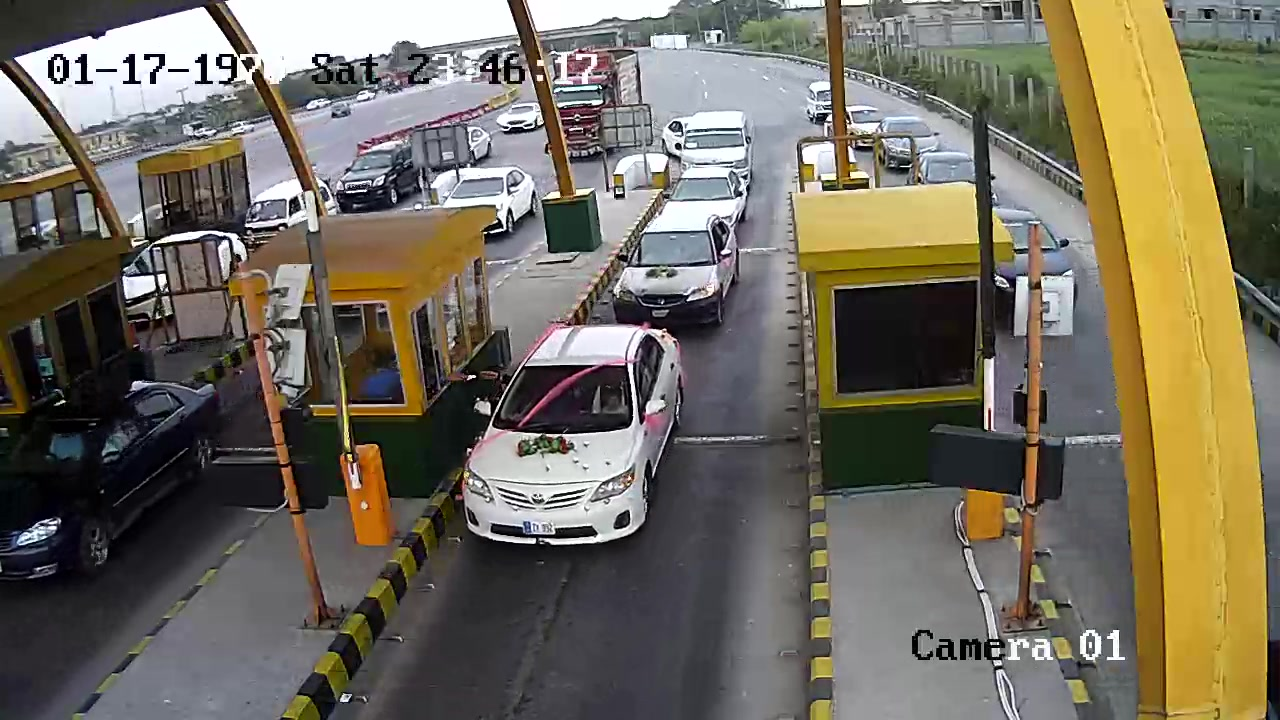F1: (452, 325, 690, 555), (602, 213, 741, 326)
